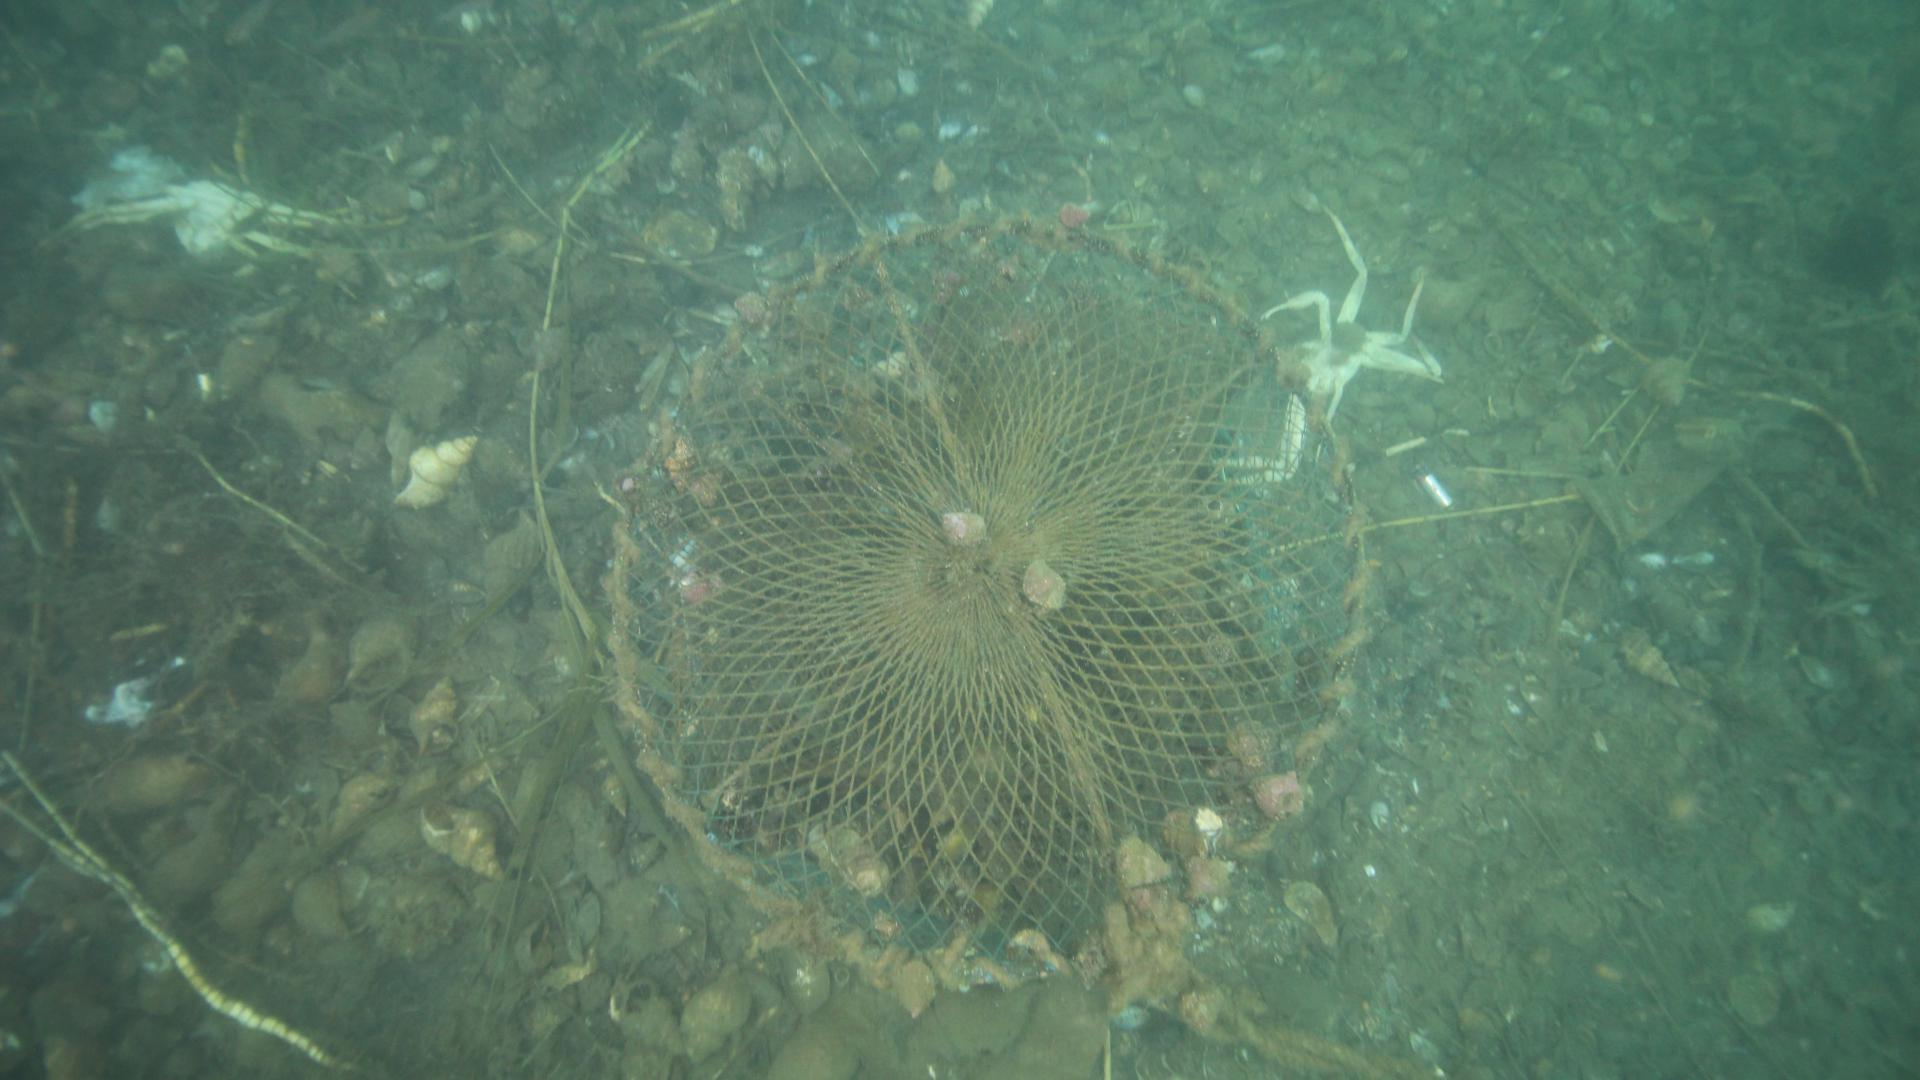bundle of ropes: (1098, 945, 1429, 1080)
circular fish trap: (591, 214, 1374, 1006)
